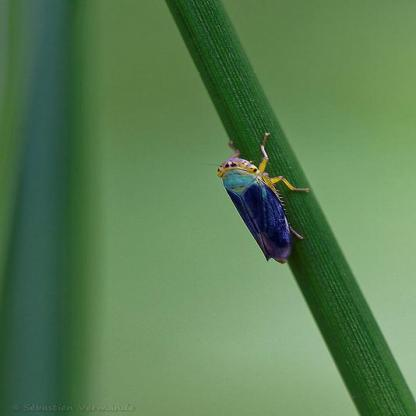Green-Leafhopper: (206, 127, 322, 277)
